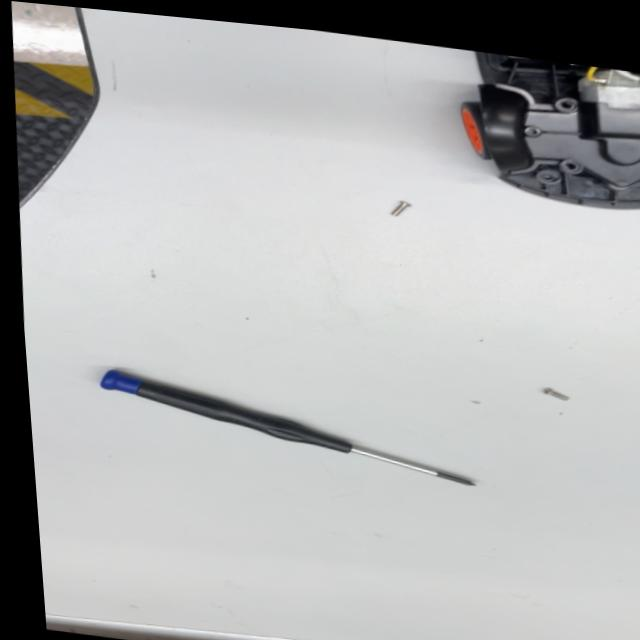screw: (530, 382, 577, 407)
screw_driver: (85, 360, 487, 496)
